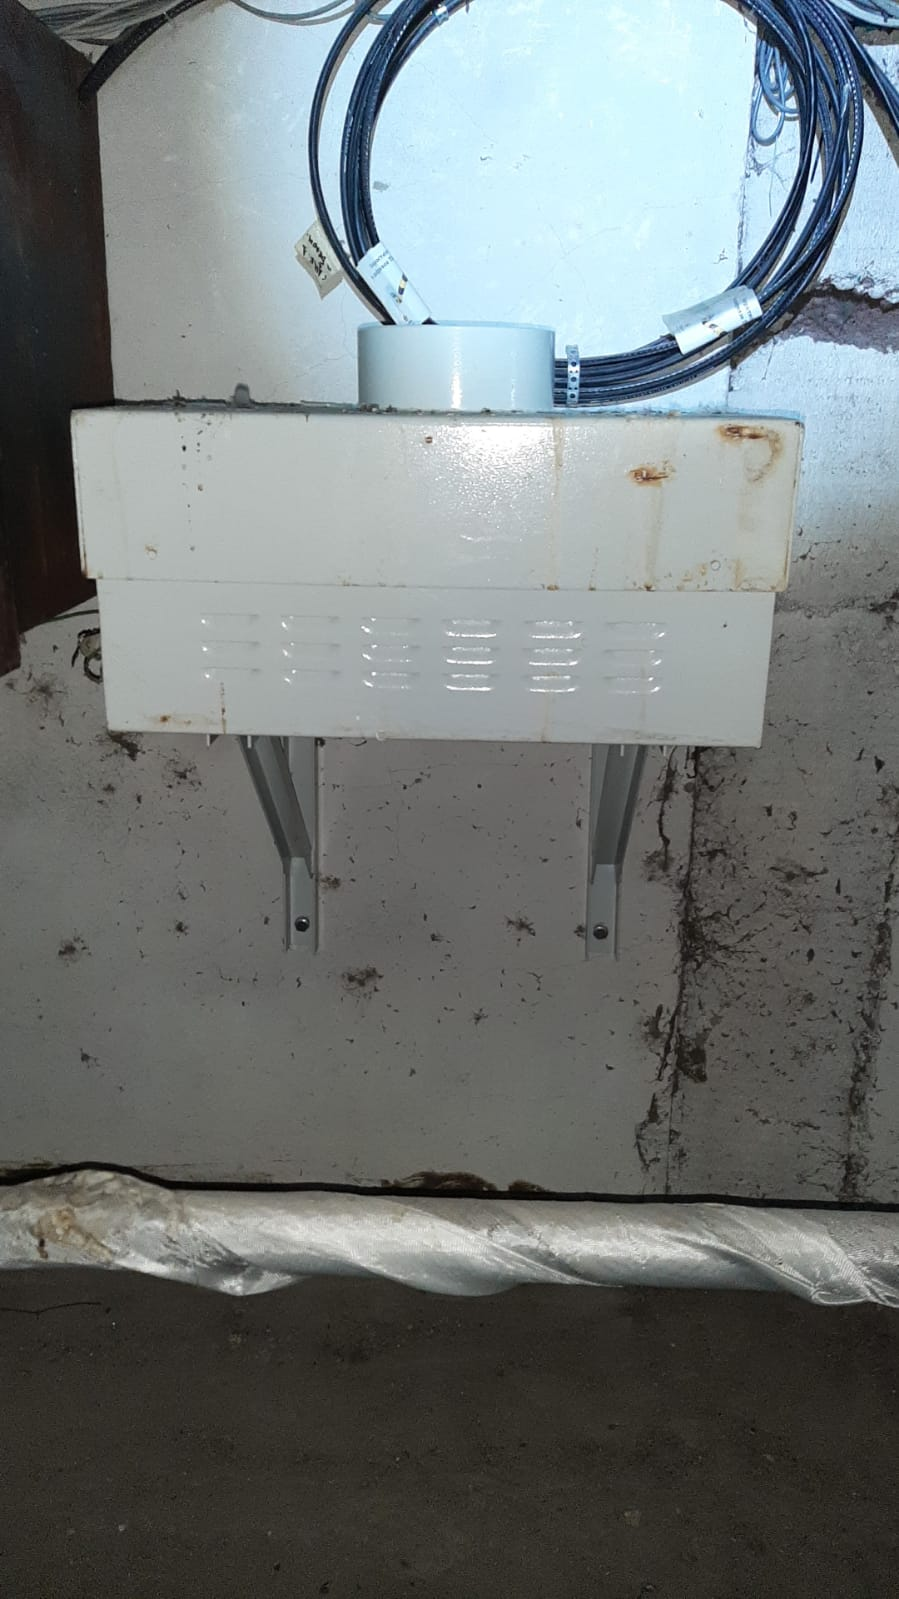shta-ps: (60, 305, 824, 771)
